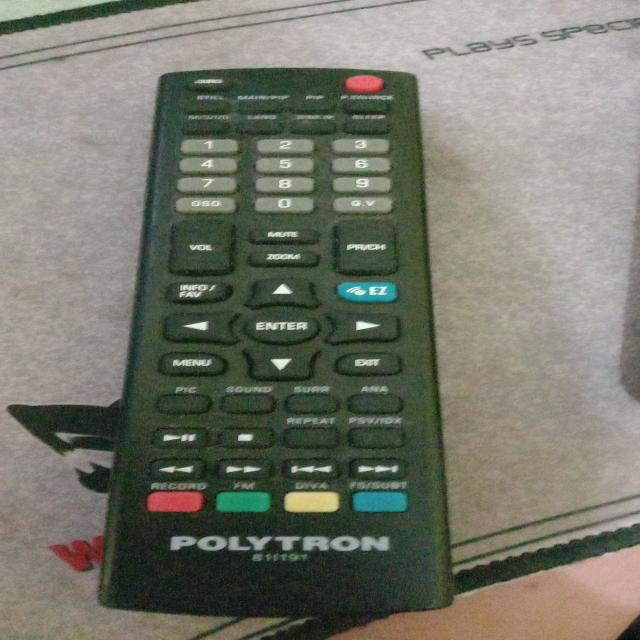remote: (52, 63, 456, 617)
